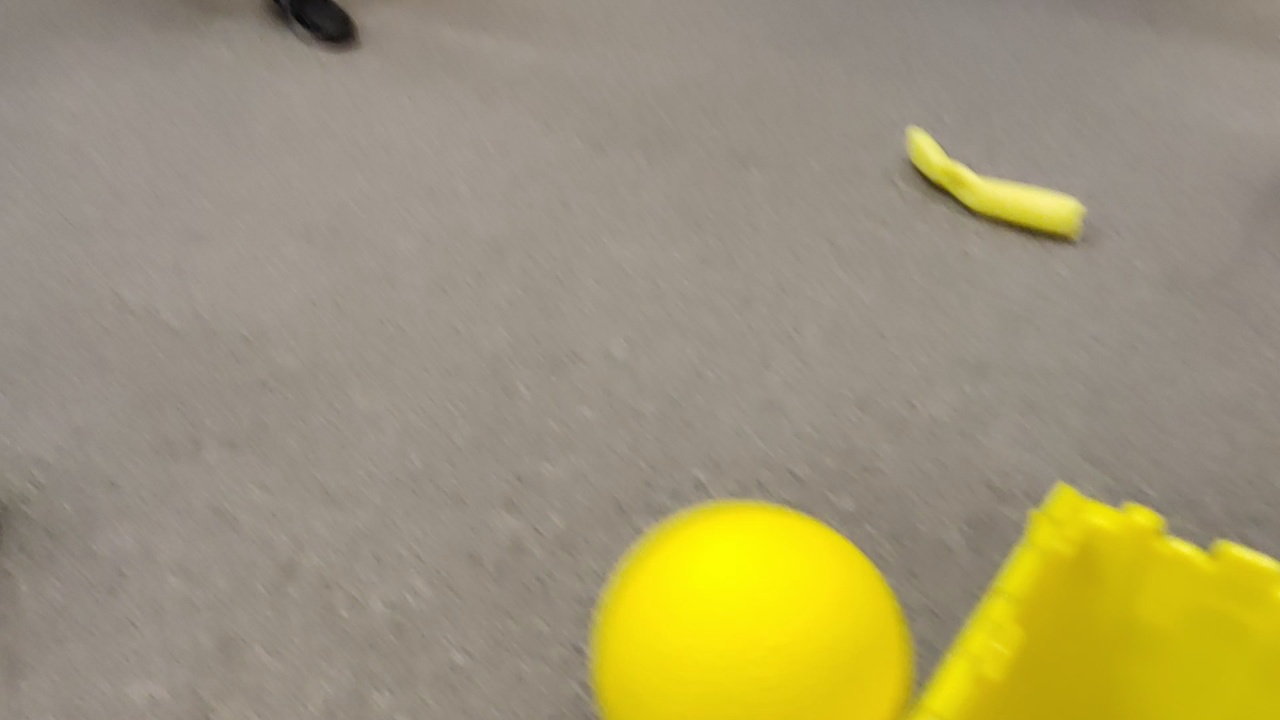Ball: (587, 499, 917, 720)
